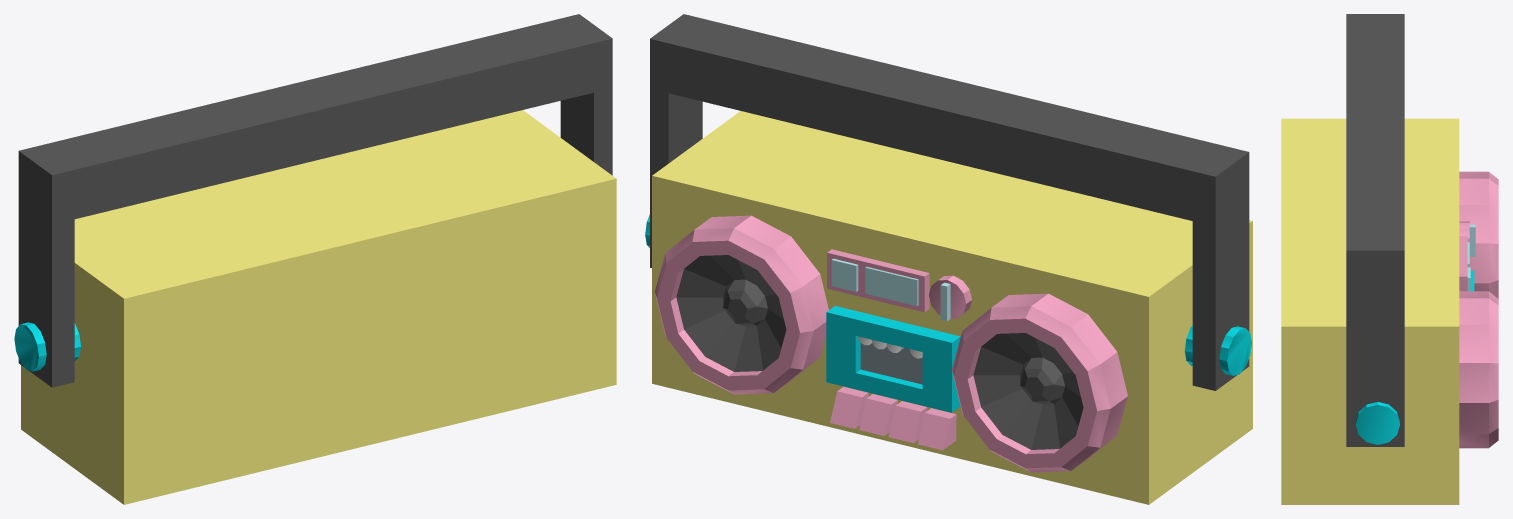
The model's file is soundbox01.fbx.
The picture shows the model from 3 angles, left to right: view 1: azimuth 30°, elevation 25°; view 2: azimuth 150°, elevation 25°; view 3: azimuth 270°, elevation 25°; orthographic projection. The views are drawn at different scales.
Visible parts, largest first — view 1: model; view 2: model; view 3: model.
Part boxes in pixels (x1,y1,x2,y2): model: [14, 14, 616, 504]; model: [645, 14, 1252, 504]; model: [1281, 14, 1498, 504].
Size of the model in its own units: 190 by 97.87 by 71.84.
